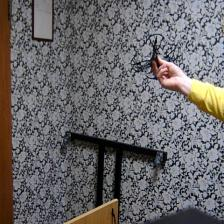drone: (129, 31, 183, 84)
